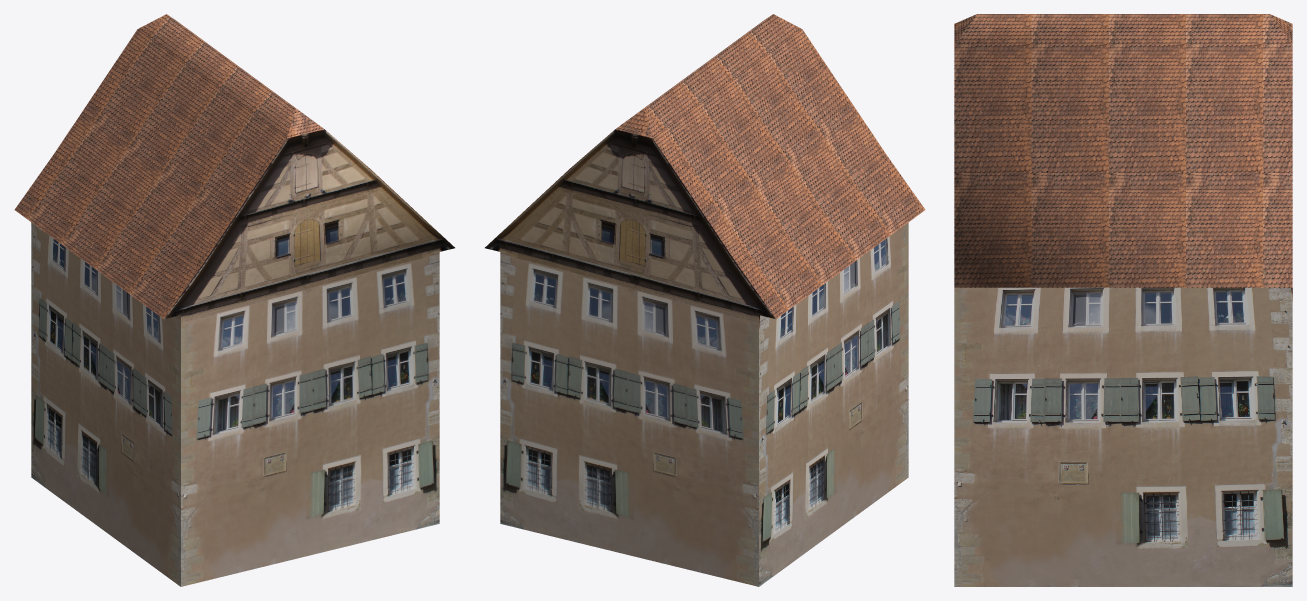
File: old_city_house_speicher.obj
3 renders of one model, left to right at view 1: azimuth 30°, elevation 25°; view 2: azimuth 150°, elevation 25°; view 3: azimuth 270°, elevation 25°, orthographic. The views are drawn at different scales.
Visible parts, largest first — view 1: old_city_house_speicher; view 2: old_city_house_speicher; view 3: old_city_house_speicher.
Boxes of the visible parts, left/top/right/bottom form: old_city_house_speicher: left=14, top=14, right=454, bottom=586; old_city_house_speicher: left=485, top=14, right=925, bottom=586; old_city_house_speicher: left=954, top=14, right=1292, bottom=586.
Bounding box in the file's own units: 8.47 × 12.23 × 7.51.
2 materials, 2 textured.
